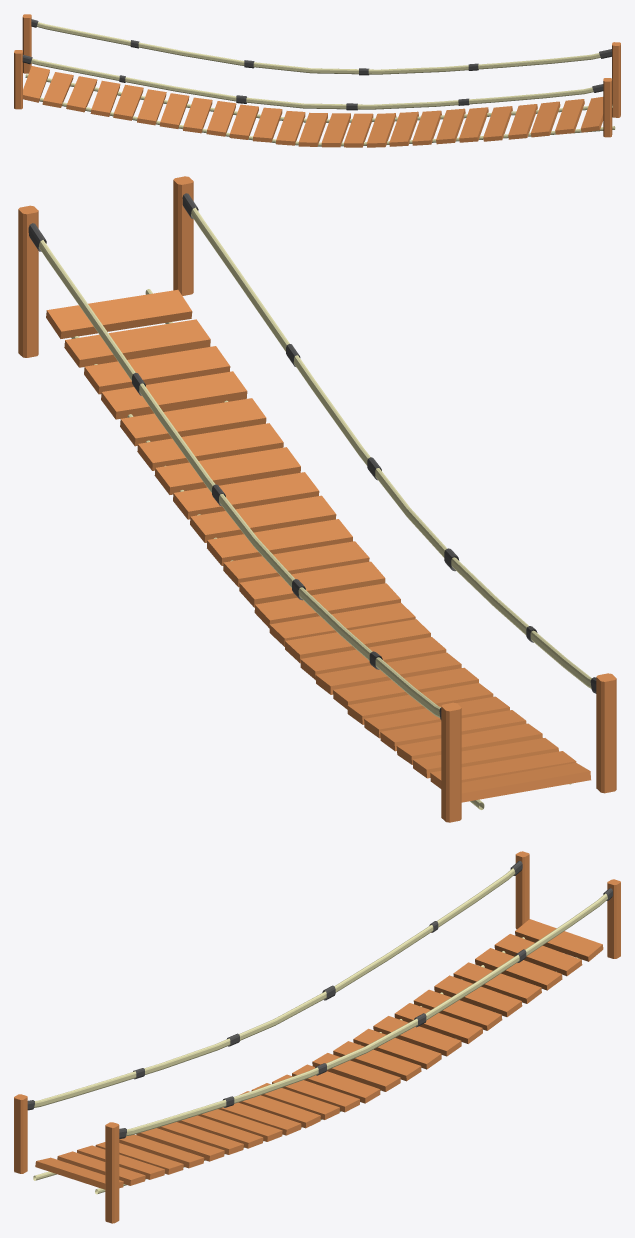
Rendered from HAB To Main Bridge.fbx.
3 renders of one model, top to bottom at view 1: azimuth 30°, elevation 25°; view 2: azimuth 150°, elevation 25°; view 3: azimuth 270°, elevation 25°, orthographic. The views are drawn at different scales.
Visible parts, largest first — view 1: HAB To Main Bridge; view 2: HAB To Main Bridge; view 3: HAB To Main Bridge.
Boxes of the visible parts, x1,y1,x2,y2 form: HAB To Main Bridge: [14, 14, 620, 147]; HAB To Main Bridge: [18, 176, 616, 822]; HAB To Main Bridge: [14, 851, 620, 1223].
Bounding box in the file's own units: 756 × 147 × 662.
